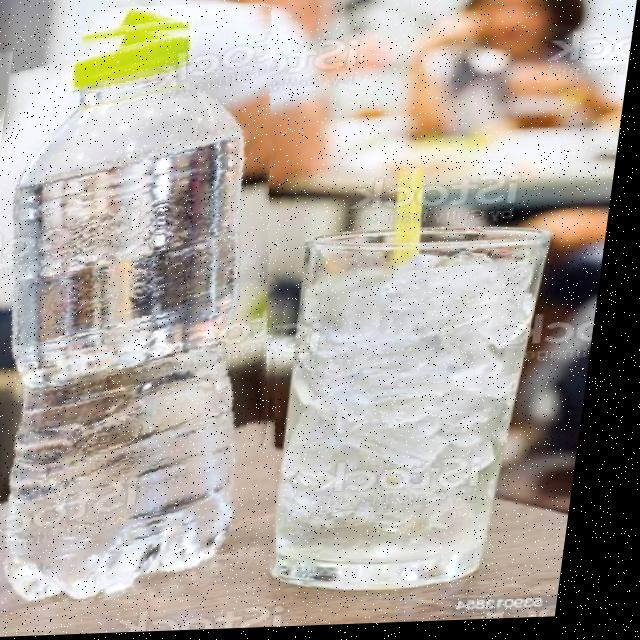plasticbottle: (0, 14, 331, 606)
plasticbottlecap: (76, 4, 281, 112)
